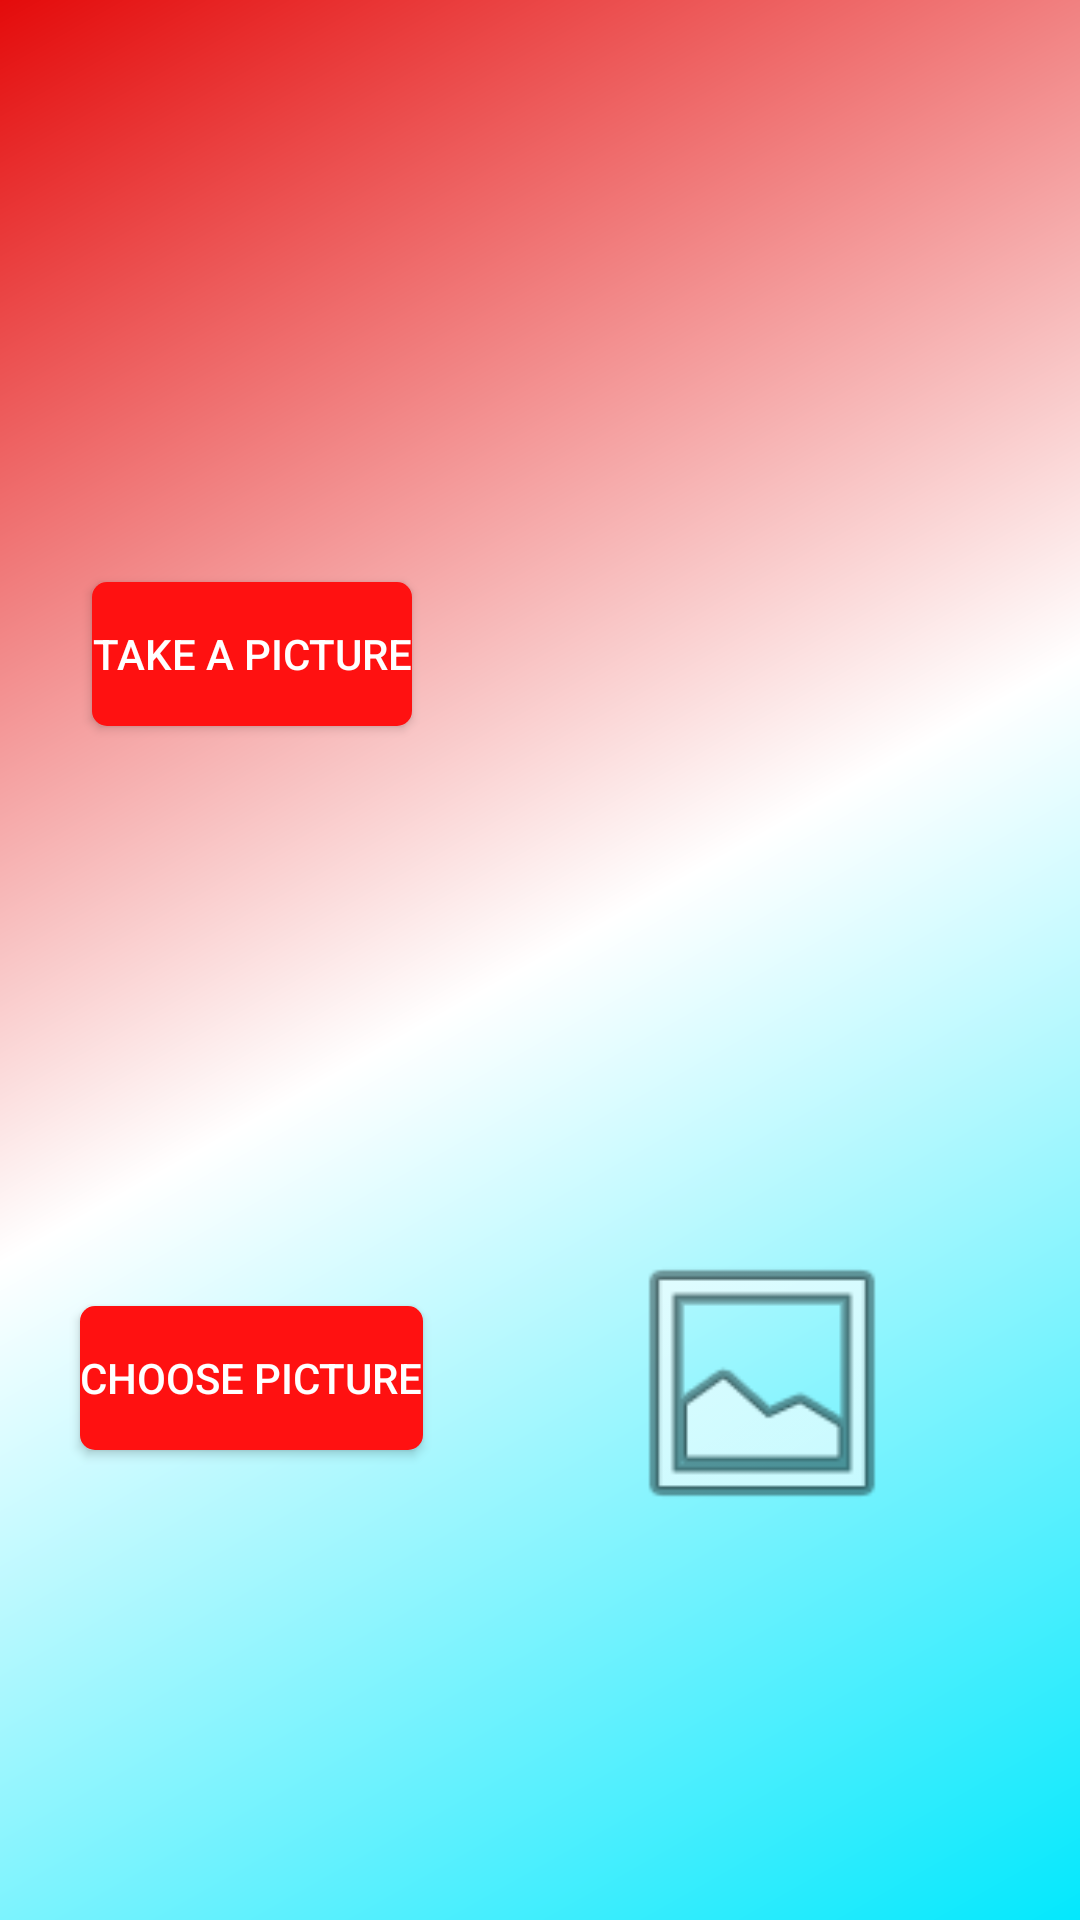

Screen size 1080*1920. Icon name, then its center in pixels as [x,y]:
gallery: [762,1383]
